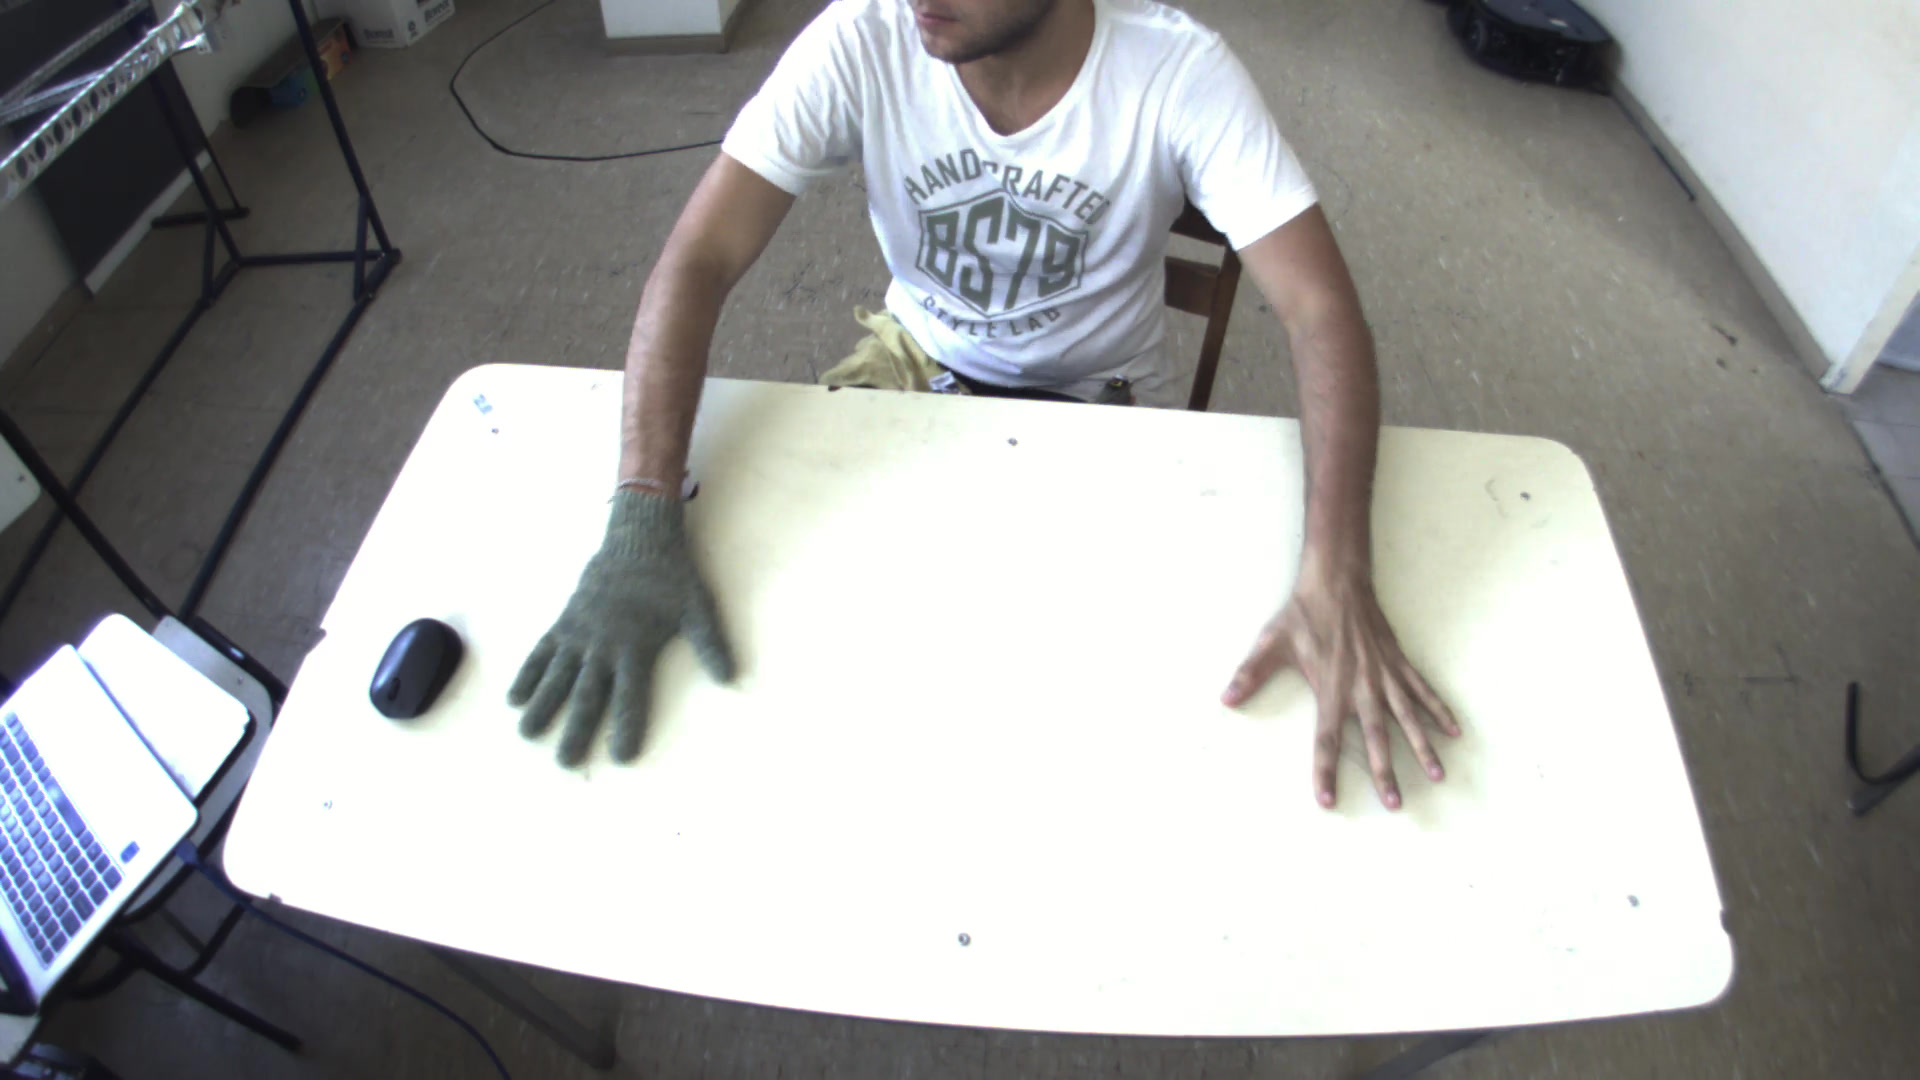hand: (493, 465, 724, 781), (1224, 560, 1490, 819)
